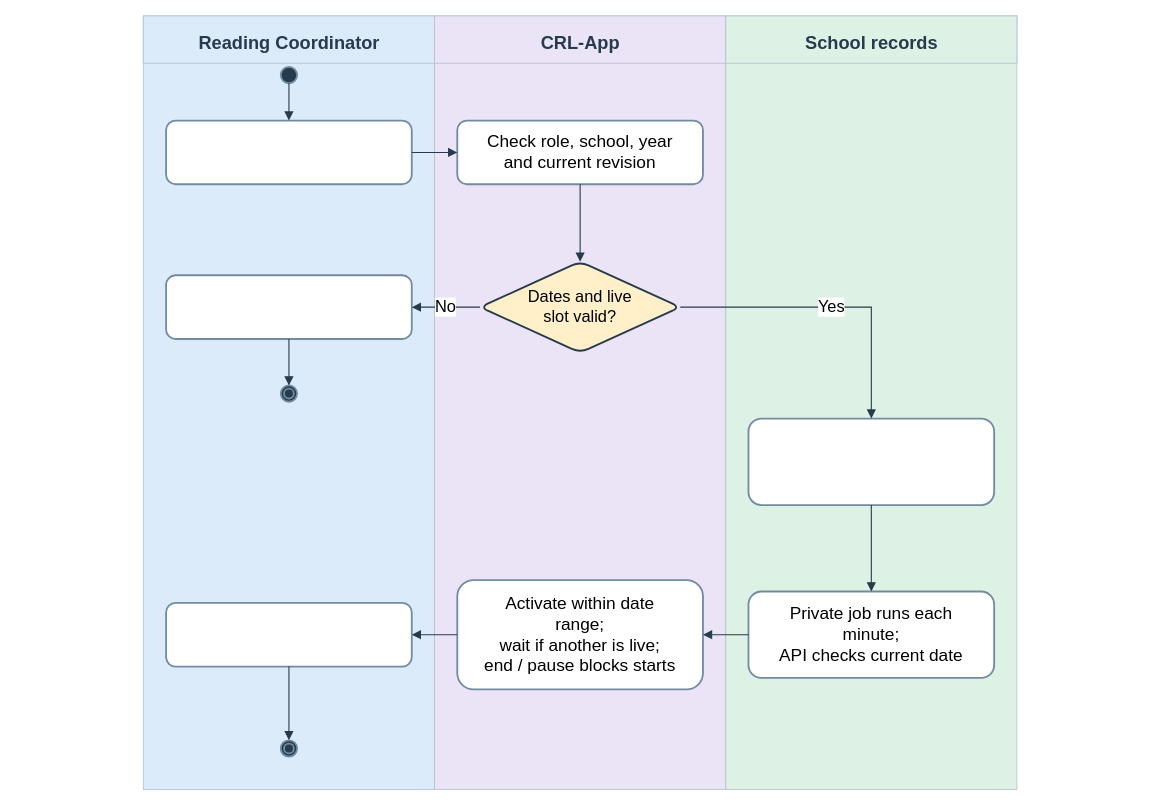
The diagram is 1159 pixels wide and 805 high, and some of its shapes have lost their labels. The centre of each missing label's shape, as x and y in pixels:
"Explain the conflict; retain calendar draft" belongs at (288,306).
"Open Set start/stop dates; choose dates in overlay" belongs at (288,152).
"Save dates; clear pause; enforce one live timeline and separate date ranges" belongs at (871,461).
"Teacher Overview shows live timeline and end date" belongs at (288,634).
